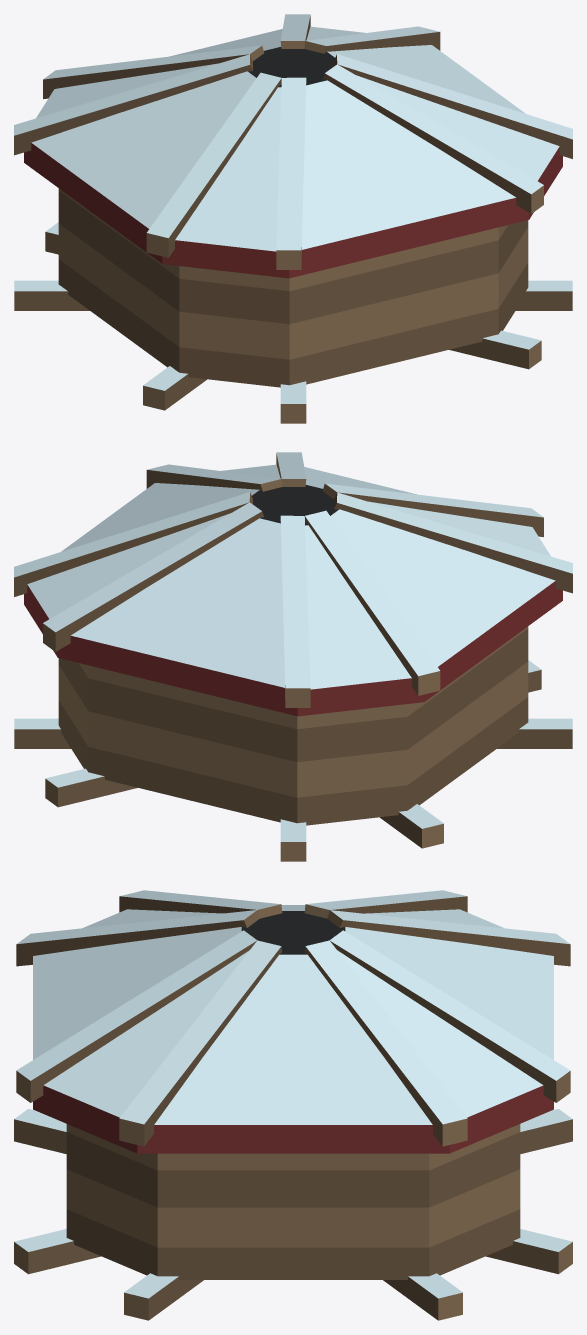
The model's file is SM_Bld_Knights_Castle_06_Snow.fbx.
The picture shows the model from 3 angles, top to bottom: view 1: azimuth 30°, elevation 25°; view 2: azimuth 150°, elevation 25°; view 3: azimuth 270°, elevation 25°; orthographic projection. The views are drawn at different scales.
Visible parts, largest first — view 1: SM_Bld_Knights_Castle_06_Snow; view 2: SM_Bld_Knights_Castle_06_Snow; view 3: SM_Bld_Knights_Castle_06_Snow.
Boxes of the visible parts, <box> form: SM_Bld_Knights_Castle_06_Snow: <box>14,14,572,423</box>; SM_Bld_Knights_Castle_06_Snow: <box>14,452,572,861</box>; SM_Bld_Knights_Castle_06_Snow: <box>14,890,572,1320</box>.
Bounding box in the file's own units: 112 × 61.32 × 112.
Materials: 1 (1 with a texture image).
